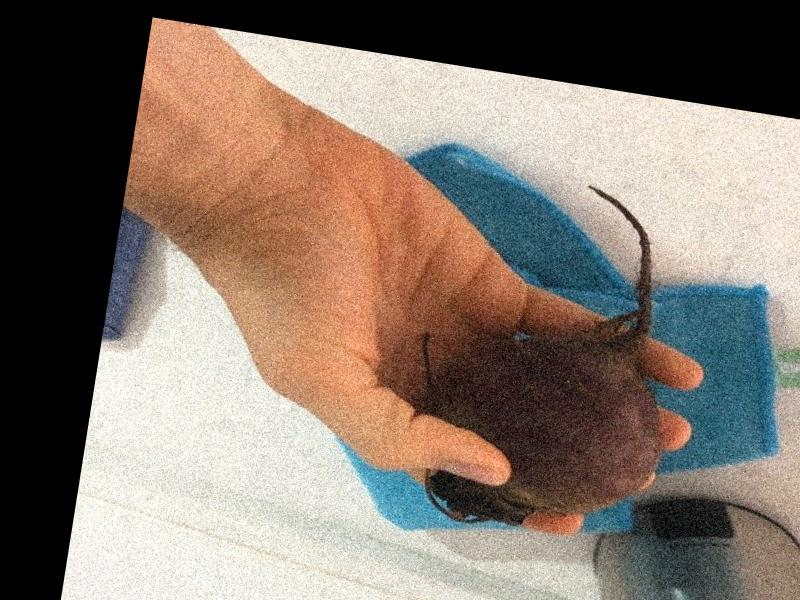Beet: (397, 163, 699, 550)
